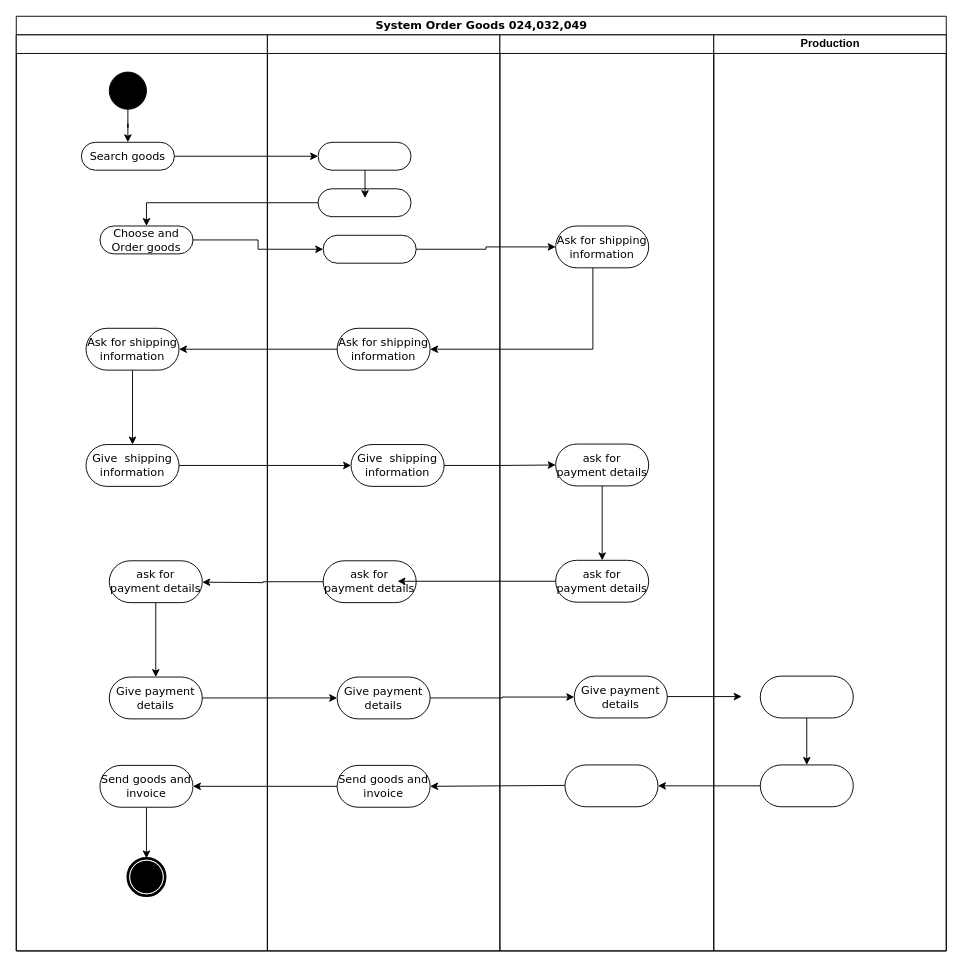
The diagram is 963 pixels wide and 967 high, and some of its shapes have lost their labels. The box of each missing label's shape, as (x1, y1, x2, y2) in pixels:
continue to production: (759, 675, 853, 718)
Continue to sales: (322, 234, 416, 263)
Customer: (15, 34, 267, 951)
Display goods: (317, 188, 411, 217)
Goods produced: (564, 764, 658, 807)
Goods production: (759, 764, 853, 807)
Sales: (499, 34, 714, 951)
Search Catalog: (317, 141, 411, 170)
System: (266, 34, 500, 951)
